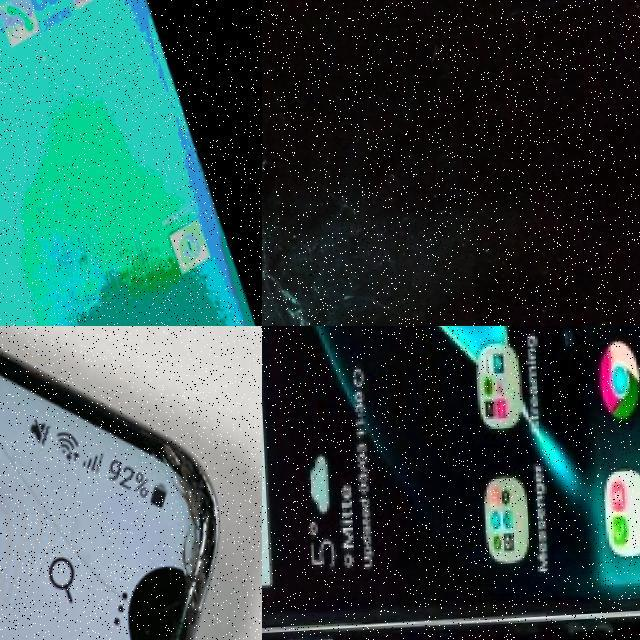dead pixel: (107, 546, 209, 640)
screen crack: (262, 36, 633, 326), (0, 328, 126, 623), (156, 429, 222, 610)
